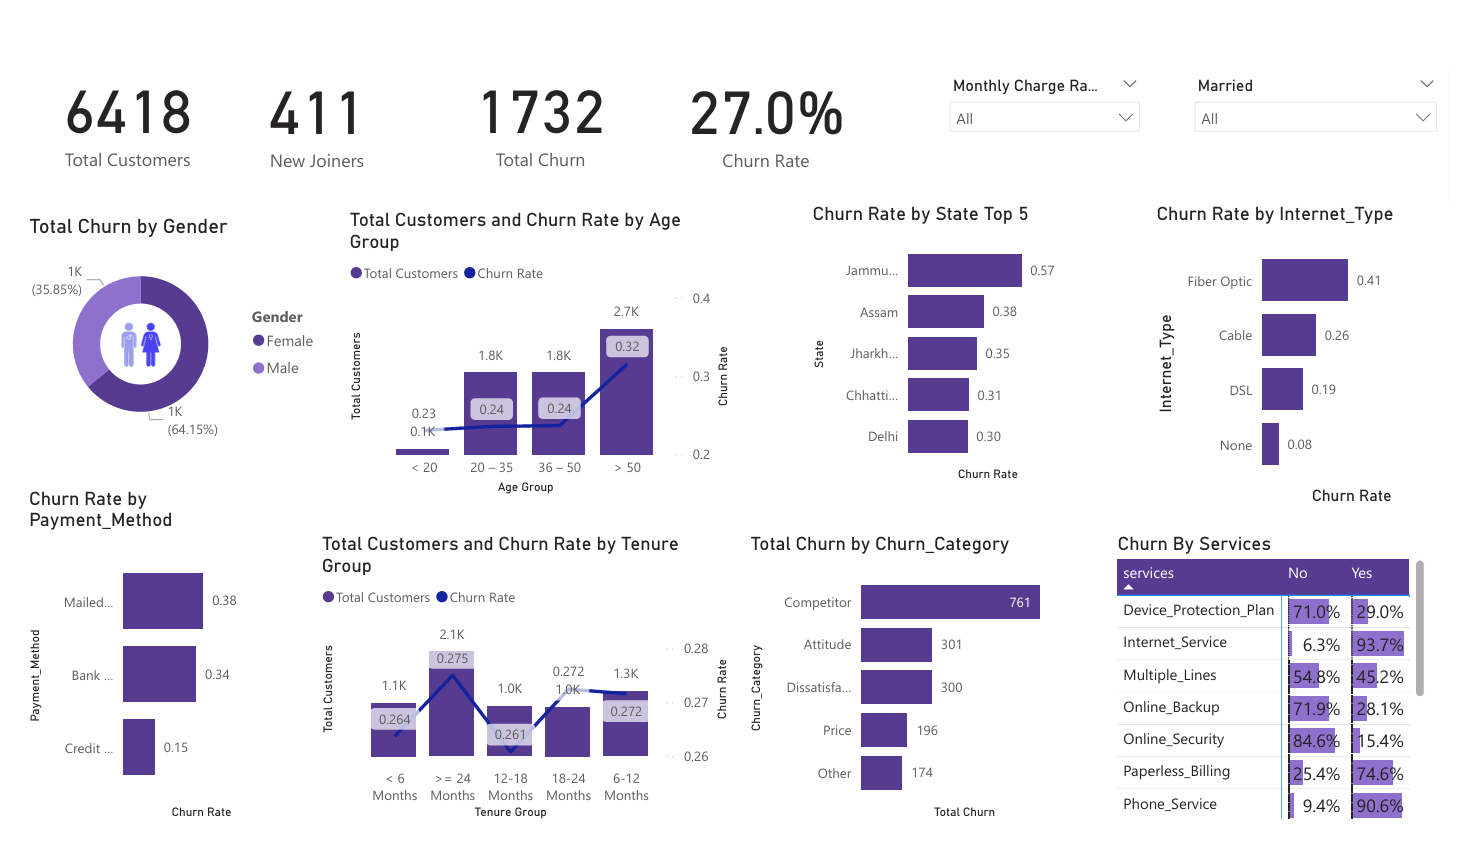

This screenshot's page, from the dashboard's own definition file:
{"tool":"powerbi","page":{"name":"summary","canvas":[1280,720],"ordinal":0},"visuals":[{"type":"card","fields":{"Values":["tbl_Measures.Total Customers"]},"box":[0,0,186.7,168.3],"z":0},{"type":"card","fields":{"Values":["tbl_Measures.New Joiners"]},"box":[166.7,1.7,193.3,166.7],"z":1000},{"type":"card","fields":{"Values":["tbl_Measures.Total Churn"]},"box":[382.2,0,164.8,167.5],"z":2000},{"type":"card","fields":{"Values":["tbl_Measures.Churn Rate"]},"box":[571.7,1.7,190,166.7],"z":3000},{"type":"donutChart","fields":{"Category":["prod_Churn.Gender"],"Y":["tbl_Measures.Total Churn"]},"box":[0,171.5,275.8,212.7],"z":4000},{"type":"lineStackedColumnComboChart","fields":{"Category":["Mapping_AgeGrp.Age Group"],"Y":["tbl_Measures.Total Customers"],"Y2":["tbl_Measures.Churn Rate"]},"box":[288.3,166.7,351.7,261.7],"z":5000},{"type":"clusteredBarChart","fields":{"Category":["prod_Churn.Payment_Method"],"Y":["tbl_Measures.Churn Rate"]},"box":[0,417.3,235,302.5],"z":6000},{"type":"lineStackedColumnComboChart","fields":{"Category":["Mapping_TenureGrp.Tenure Group"],"Y":["tbl_Measures.Total Customers"],"Y2":["tbl_Measures.Churn Rate"]},"box":[263.5,458.3,376,262.1],"z":7000},{"type":"clusteredBarChart","title":"Churn Rate by State Top 5","fields":{"Category":["prod_Churn.State"],"Y":["tbl_Measures.Churn Rate"]},"box":[703.6,160.7,239,256.6],"z":8000},{"type":"clusteredBarChart","fields":{"Category":["prod_Churn.Churn_Category"],"Y":["tbl_Measures.Total Churn"]},"box":[648.3,458.3,295,261.7],"z":9000},{"type":"clusteredBarChart","fields":{"Category":["prod_Churn.Internet_Type"],"Y":["tbl_Measures.Churn Rate"]},"box":[1012.9,160.7,266,276.9],"z":10000},{"type":"pivotTable","title":"Churn By Services","fields":{"Rows":["prod_Services.services"],"Columns":["prod_Services.status"],"Values":["Sum(prod_Services.churn_status)"]},"box":[977.8,457.8,286.3,262],"z":11000},{"type":"slicer","fields":{"Values":["prod_Services.Monthly Charge Status"]},"box":[822,42.5,190.7,63.1],"z":12000},{"type":"slicer","fields":{"Values":["prod_Services.Married"]},"box":[1041.5,42.5,238.8,61.7],"z":13000},{"type":"image","box":[71.6,257.9,66.2,60.8],"z":14000}]}

Visuals, with their boxes in screenshot pixels (x1, y1, x2, y2), scaled from the page's 1280x720 canvas onto the 1466x842 screenshot:
card - tbl_Measures.Total Customers: Rect(0, 0, 214, 197)
card - tbl_Measures.New Joiners: Rect(191, 2, 412, 197)
card - tbl_Measures.Total Churn: Rect(438, 0, 626, 196)
card - tbl_Measures.Churn Rate: Rect(655, 2, 872, 197)
donutChart - prod_Churn.Gender x tbl_Measures.Total Churn: Rect(0, 201, 316, 449)
lineStackedColumnComboChart - Mapping_AgeGrp.Age Group x tbl_Measures.Total Customers: Rect(330, 195, 733, 501)
clusteredBarChart - prod_Churn.Payment_Method x tbl_Measures.Churn Rate: Rect(0, 488, 269, 841)
lineStackedColumnComboChart - Mapping_TenureGrp.Tenure Group x tbl_Measures.Total Customers: Rect(302, 536, 732, 841)
"Churn Rate by State Top 5" clusteredBarChart: Rect(806, 188, 1080, 488)
clusteredBarChart - prod_Churn.Churn_Category x tbl_Measures.Total Churn: Rect(743, 536, 1080, 841)
clusteredBarChart - prod_Churn.Internet_Type x tbl_Measures.Churn Rate: Rect(1160, 188, 1465, 512)
"Churn By Services" pivotTable: Rect(1120, 535, 1448, 841)
slicer - prod_Services.Monthly Charge Status: Rect(941, 50, 1160, 123)
slicer - prod_Services.Married: Rect(1193, 50, 1465, 122)
image: Rect(82, 302, 158, 373)
